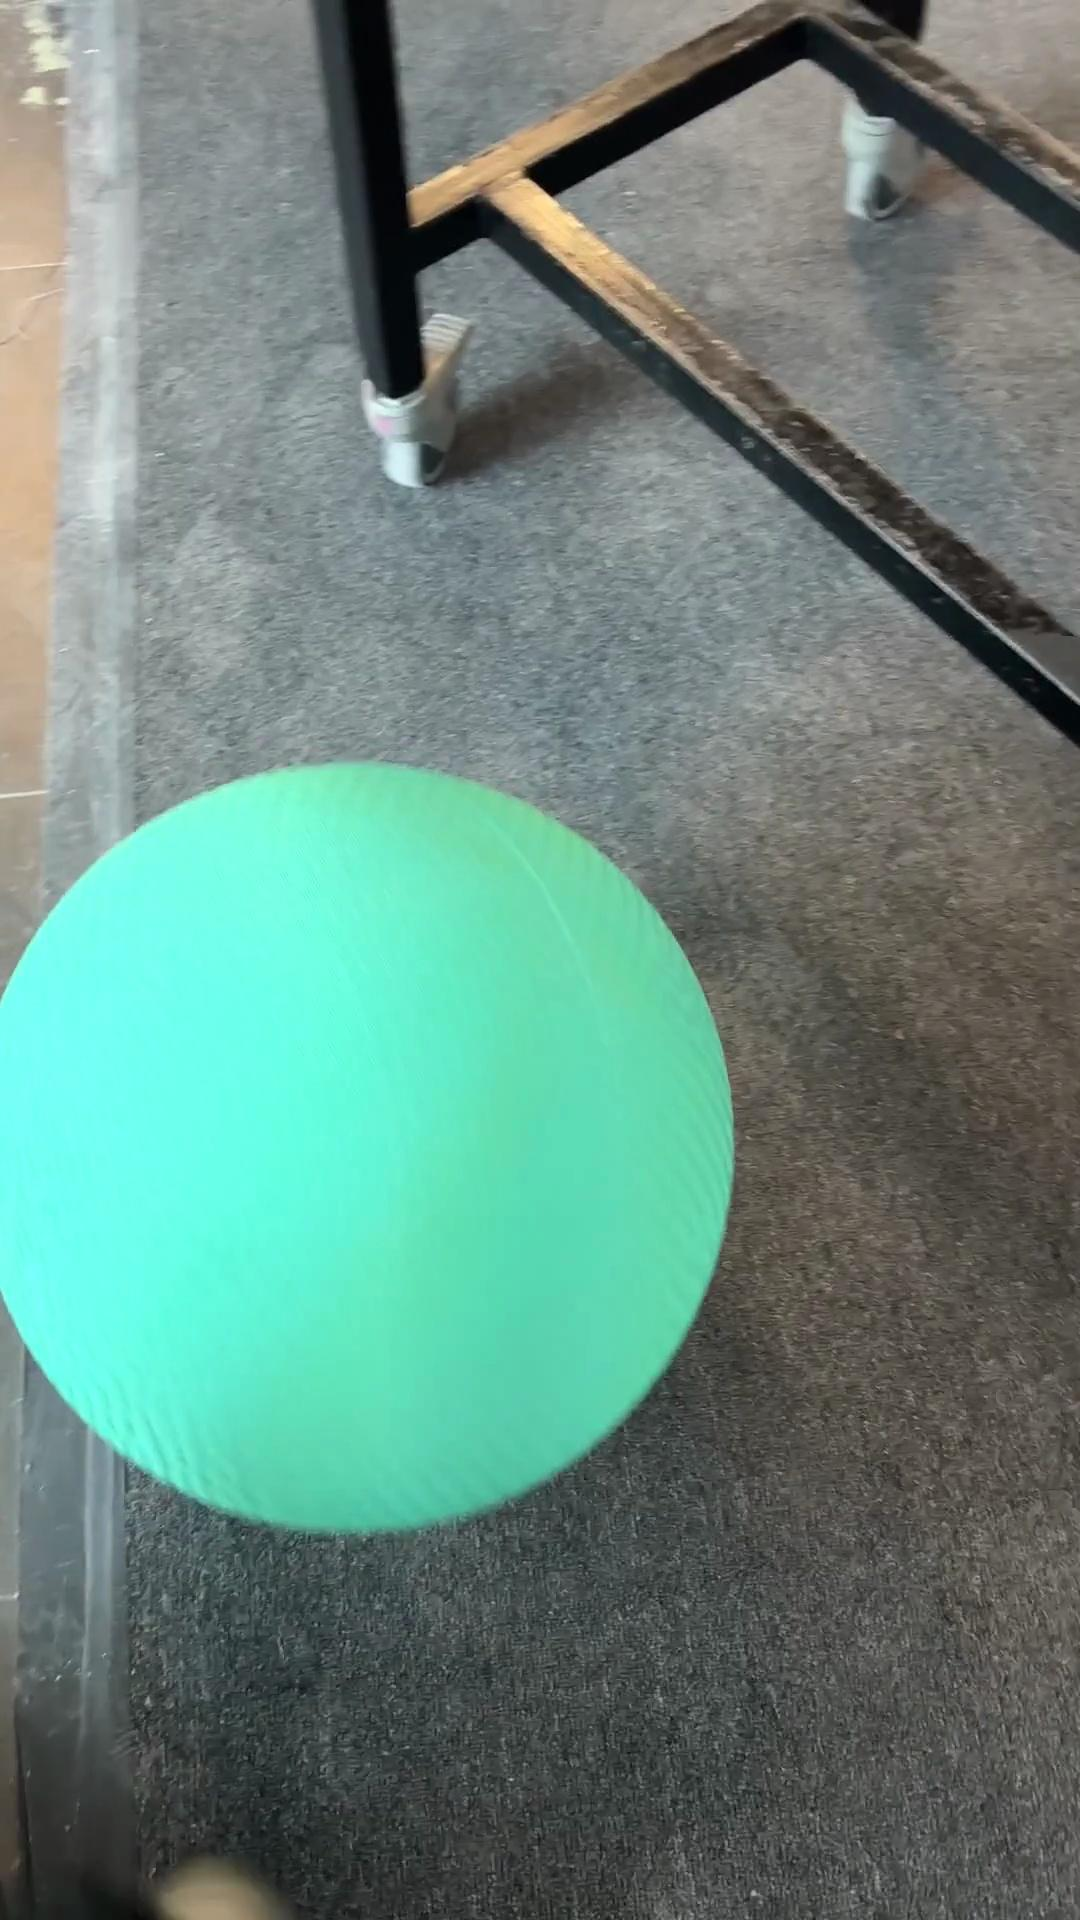ALGAE: (1, 756, 737, 1536)
